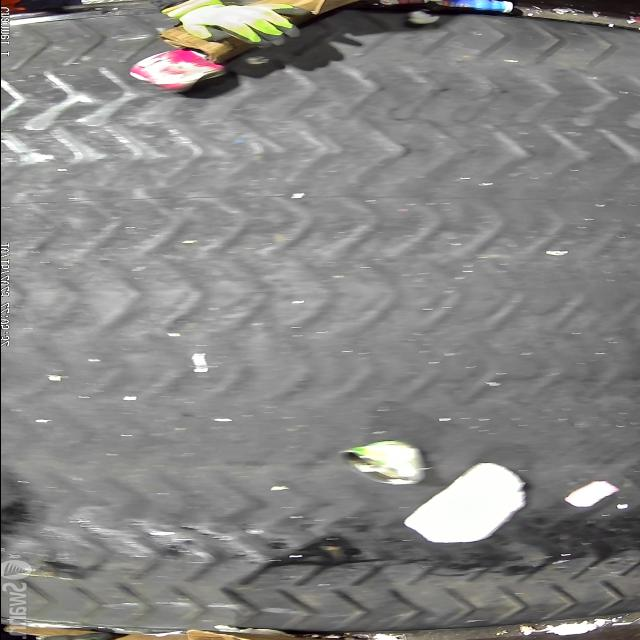can: (127, 48, 227, 94), (344, 440, 430, 484)
